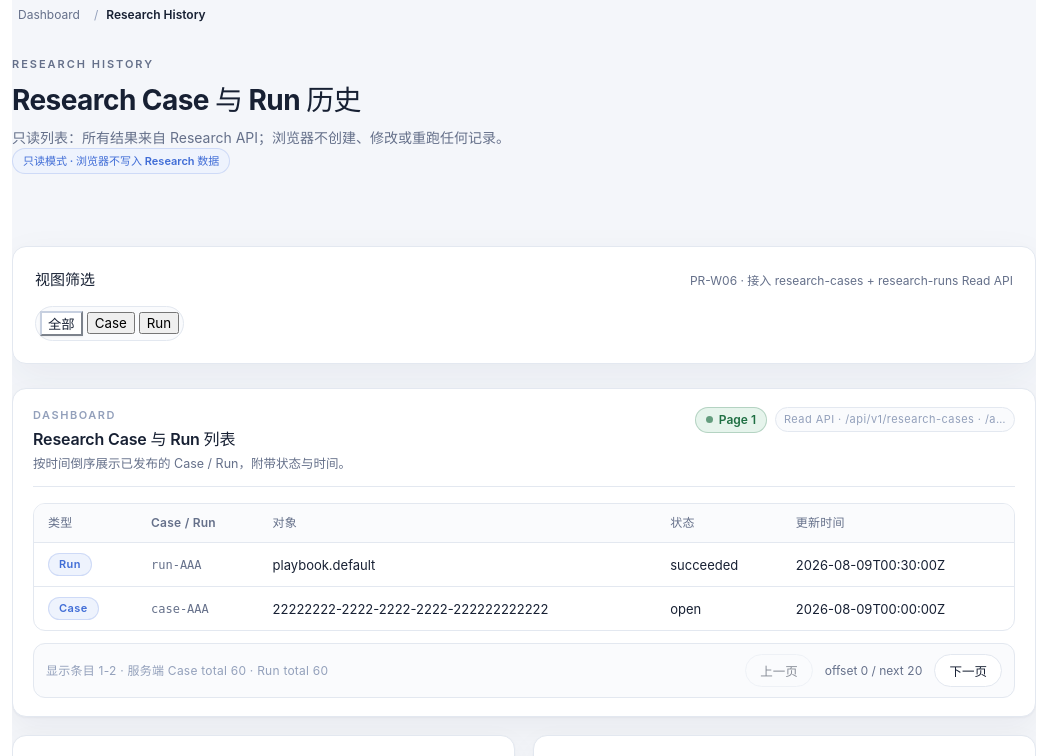
Test case: ResearchHistoryPage pagination › advances offset when next is clicked and re-queries both endpoints
Step 1. Click the button "下一页" → (968, 671), box [934,654,1002,687]
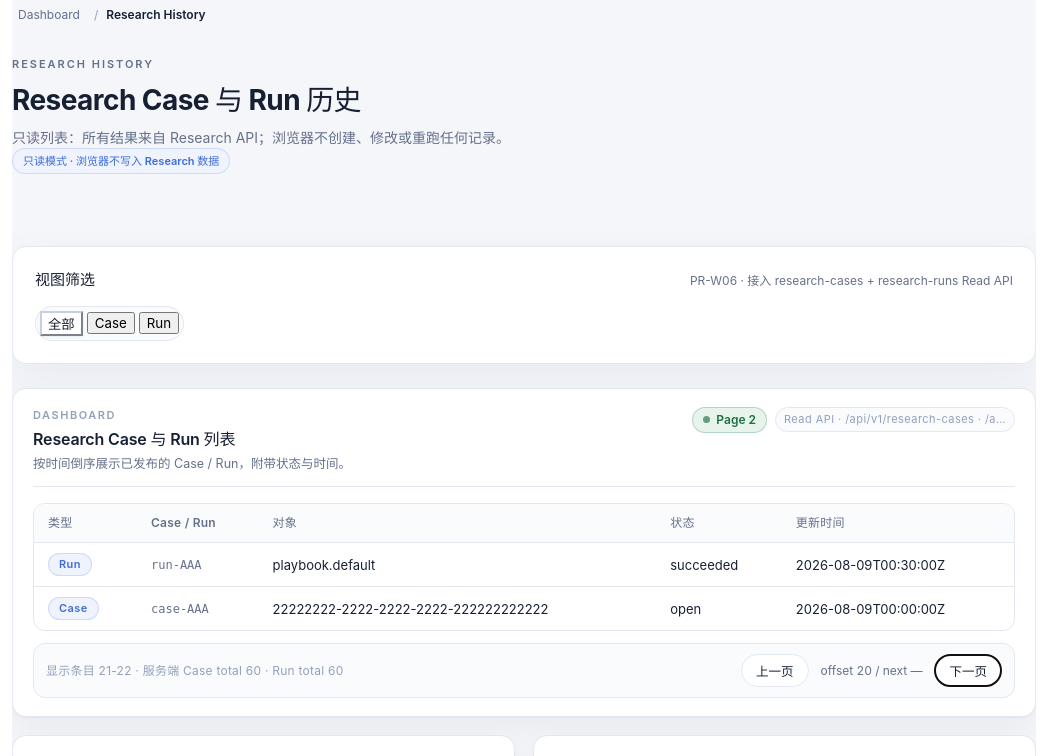
Check: the text "offset 20 / next —" is shown, box [821,662,922,680]
